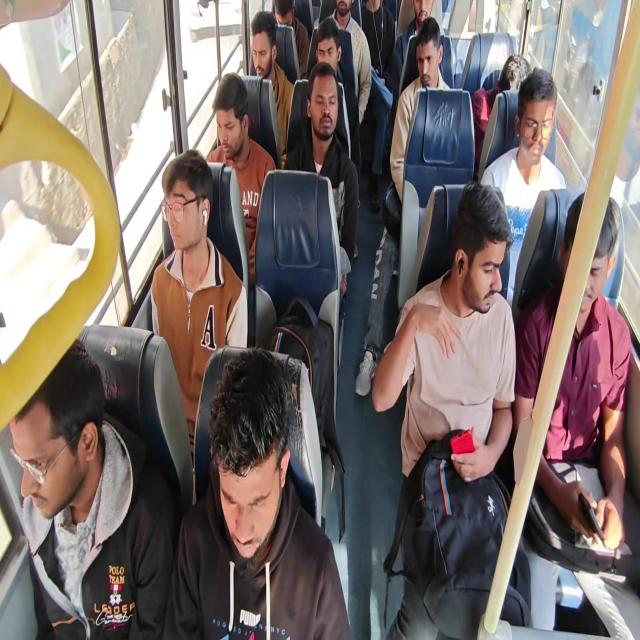person: (174, 361, 320, 640), (412, 214, 578, 415), (0, 326, 85, 640), (548, 189, 640, 366), (150, 154, 221, 358), (503, 67, 556, 166), (213, 82, 260, 190), (308, 64, 348, 162), (363, 0, 396, 118), (240, 26, 292, 92), (312, 24, 356, 68), (417, 10, 447, 70), (500, 58, 524, 103), (407, 0, 440, 27), (264, 0, 308, 14), (332, 0, 358, 23)
